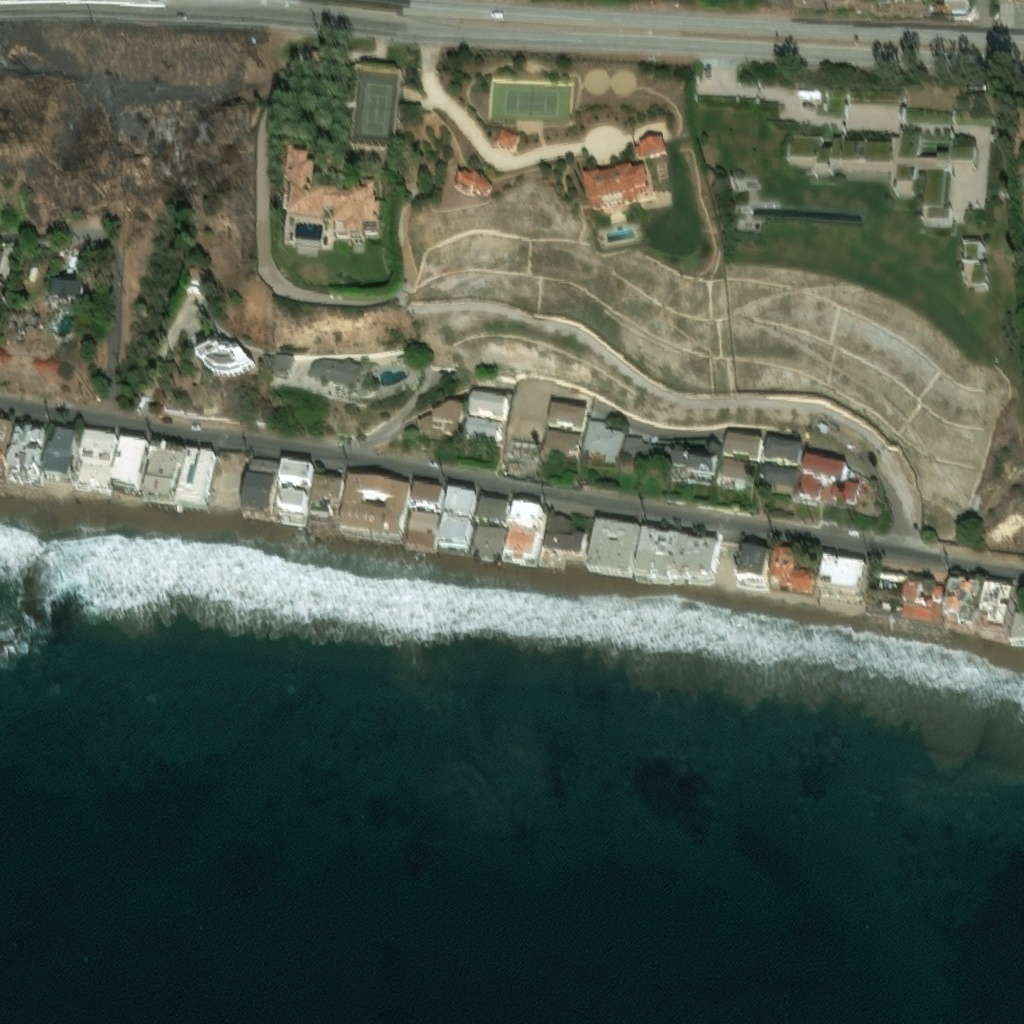0 no-damage: (788, 124, 975, 221), (279, 147, 380, 249), (339, 473, 410, 542), (633, 527, 719, 582), (586, 517, 641, 577), (581, 161, 649, 206), (798, 453, 859, 501), (501, 501, 545, 564), (538, 512, 587, 567), (175, 445, 216, 508), (438, 488, 478, 552), (143, 439, 184, 501), (77, 426, 117, 484), (817, 556, 866, 603), (769, 547, 817, 592), (6, 419, 44, 475), (583, 414, 625, 464), (670, 441, 721, 481), (942, 579, 981, 630), (111, 436, 147, 491), (899, 577, 945, 620), (197, 343, 255, 376), (415, 399, 465, 437), (39, 425, 75, 477), (308, 352, 360, 387), (240, 473, 278, 518), (979, 581, 1014, 629), (735, 545, 770, 588), (624, 433, 671, 465), (405, 508, 439, 550), (762, 434, 804, 465), (471, 521, 505, 557), (760, 462, 798, 494), (721, 456, 757, 489), (546, 398, 586, 427), (467, 388, 507, 416), (453, 167, 492, 195), (410, 481, 444, 512), (463, 413, 502, 440), (543, 425, 581, 452), (46, 279, 84, 306), (310, 476, 343, 507), (724, 431, 762, 457), (476, 496, 509, 525), (278, 487, 307, 520), (4, 309, 39, 334), (280, 462, 314, 487), (632, 133, 666, 156), (247, 456, 280, 477), (493, 123, 520, 148), (507, 431, 537, 453), (0, 418, 12, 471), (1008, 609, 1023, 643), (273, 353, 293, 377), (187, 265, 207, 283), (943, 0, 970, 9), (734, 187, 748, 202), (966, 242, 978, 259), (0, 277, 7, 299), (975, 264, 984, 281), (816, 417, 827, 427), (827, 416, 837, 424)
